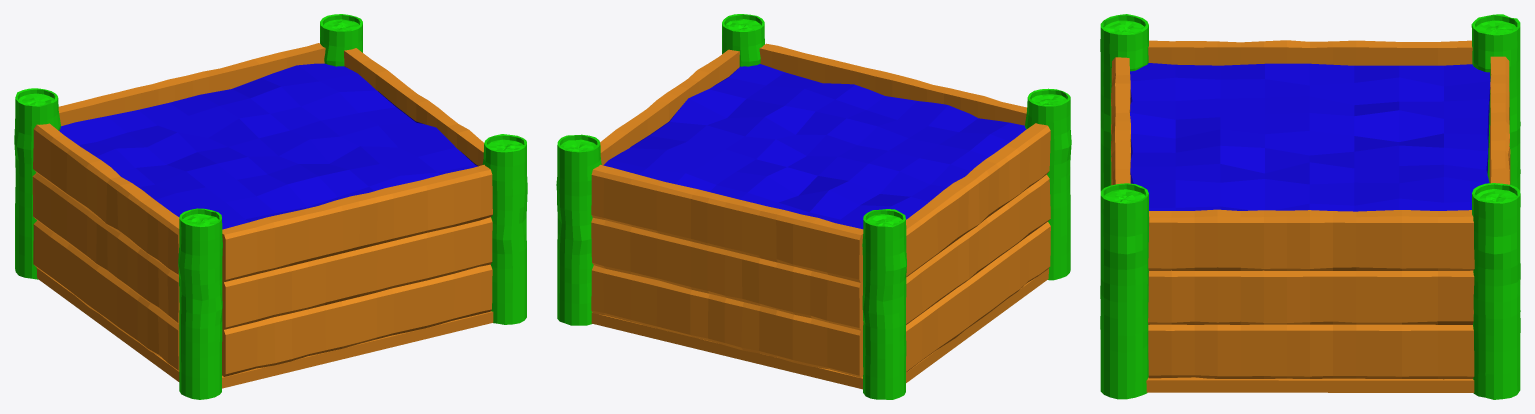
The model's file is Bed-2.fbx.
The picture shows the model from 3 angles, left to right: view 1: azimuth 30°, elevation 25°; view 2: azimuth 150°, elevation 25°; view 3: azimuth 270°, elevation 25°; orthographic projection. The views are drawn at different scales.
Parts seen in each view (by area): view 1: Cube.014, Cube.012, Cylinder.003; view 2: Cube.014, Cube.012, Cylinder.003; view 3: Cube.014, Cube.012, Cylinder.003.
Boxes of the visible parts, bbox=[...] form: Cube.014: bbox=[32, 43, 493, 388]; Cube.012: bbox=[59, 63, 478, 229]; Cylinder.003: bbox=[14, 14, 527, 399]; Cube.014: bbox=[591, 43, 1050, 389]; Cube.012: bbox=[603, 64, 1026, 229]; Cylinder.003: bbox=[556, 14, 1071, 399]; Cube.014: bbox=[1111, 40, 1510, 392]; Cube.012: bbox=[1130, 63, 1490, 211]; Cylinder.003: bbox=[1100, 14, 1520, 399].
Size of the model in its own units: 440 by 211 by 408.
